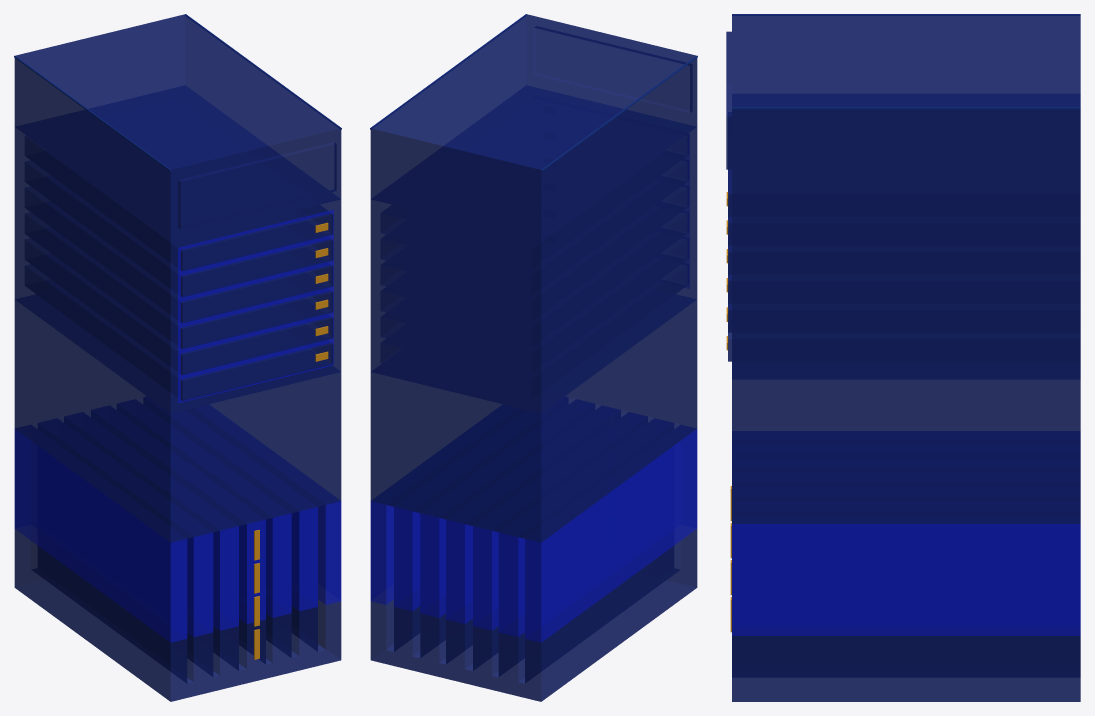
File: fuwuqi.FBX
The picture shows the model from 3 angles, left to right: view 1: azimuth 30°, elevation 25°; view 2: azimuth 150°, elevation 25°; view 3: azimuth 270°, elevation 25°; orthographic projection. The views are drawn at different scales.
Visible parts, largest first — view 1: Box192, 对象267, Box194, Box195, 对象268, 对象203, 对象266, Box193; view 2: Box192, Box194, 对象267, Box195, 对象268, 对象203; view 3: Box192, Box194, 对象267, Box195, Line020, 对象268, Line021.
Part boxes in pixels (box(x1,y1,x2,y2)): Box192: box(14, 14, 341, 701); 对象267: box(25, 136, 333, 400); Box194: box(14, 127, 341, 413); Box195: box(14, 429, 341, 642); 对象268: box(178, 142, 336, 229); 对象203: box(178, 209, 333, 403); 对象266: box(254, 530, 259, 659); Box193: box(315, 222, 328, 361); Box192: box(370, 14, 697, 701); Box194: box(370, 127, 697, 413); 对象267: box(380, 135, 686, 399); Box195: box(370, 429, 697, 642); 对象268: box(534, 28, 689, 112); 对象203: box(682, 133, 689, 288); Box192: box(732, 14, 1080, 701); Box194: box(732, 187, 1080, 379); 对象267: box(728, 169, 1080, 361); Box195: box(732, 524, 1080, 635); Line020: box(732, 107, 1080, 109); 对象268: box(726, 31, 731, 169); Line021: box(732, 14, 1080, 15).
Bounding box in the file's own units: 383 × 1131 × 611.
